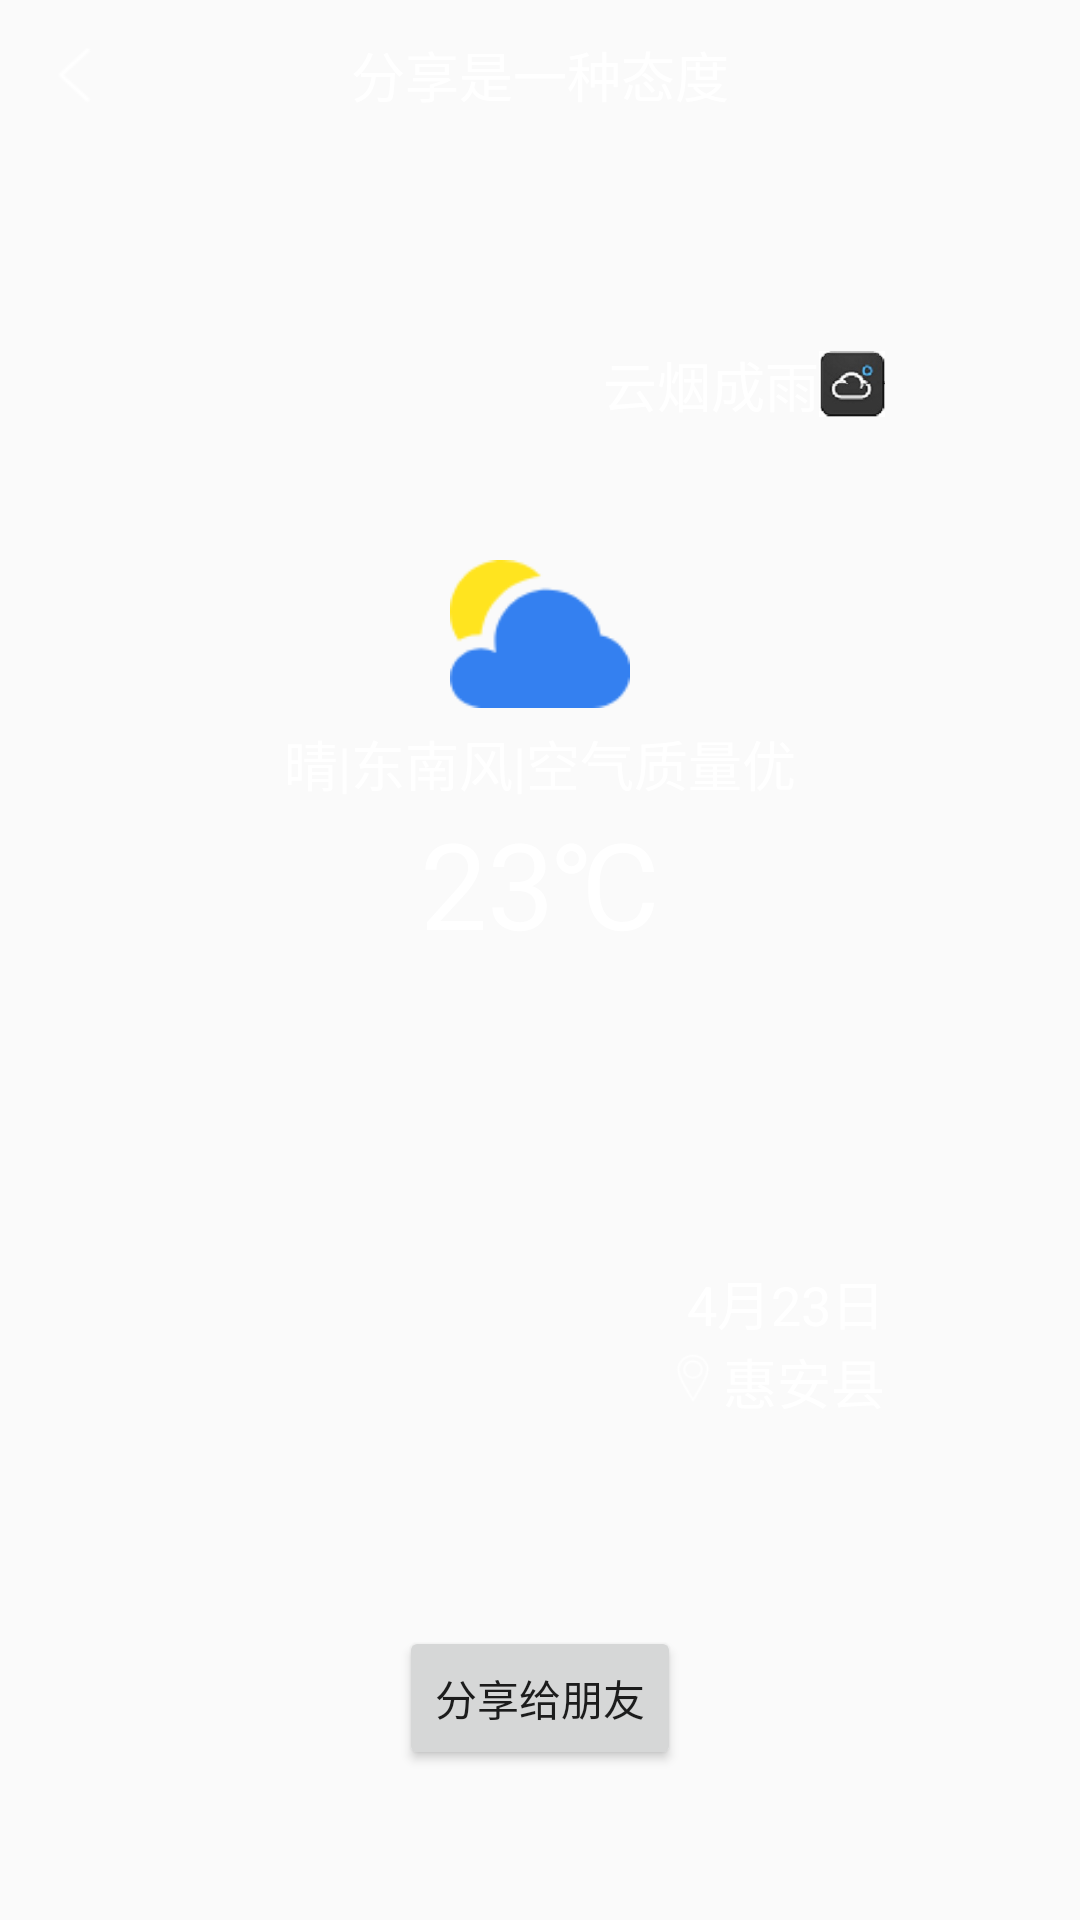

Named icons in this screenshot (1080x1920) and their bounding boxes, (x1, y1, x2, y2):
weather cloudy: (450, 560, 630, 708)
